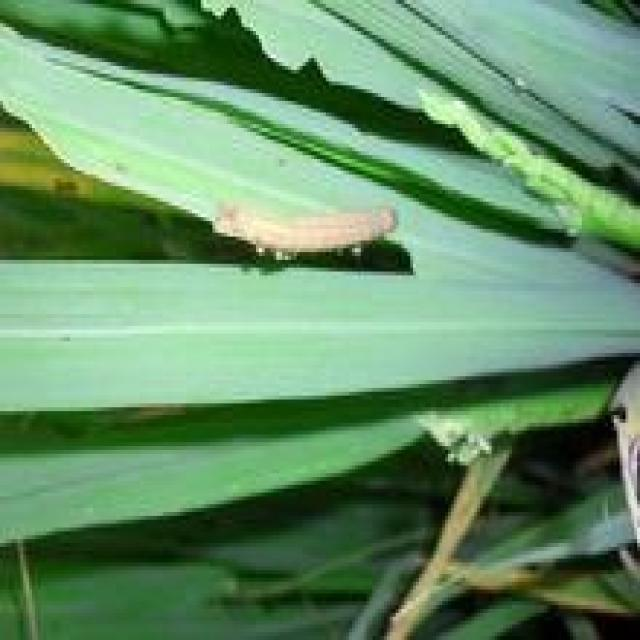army worm: (209, 185, 398, 267)
